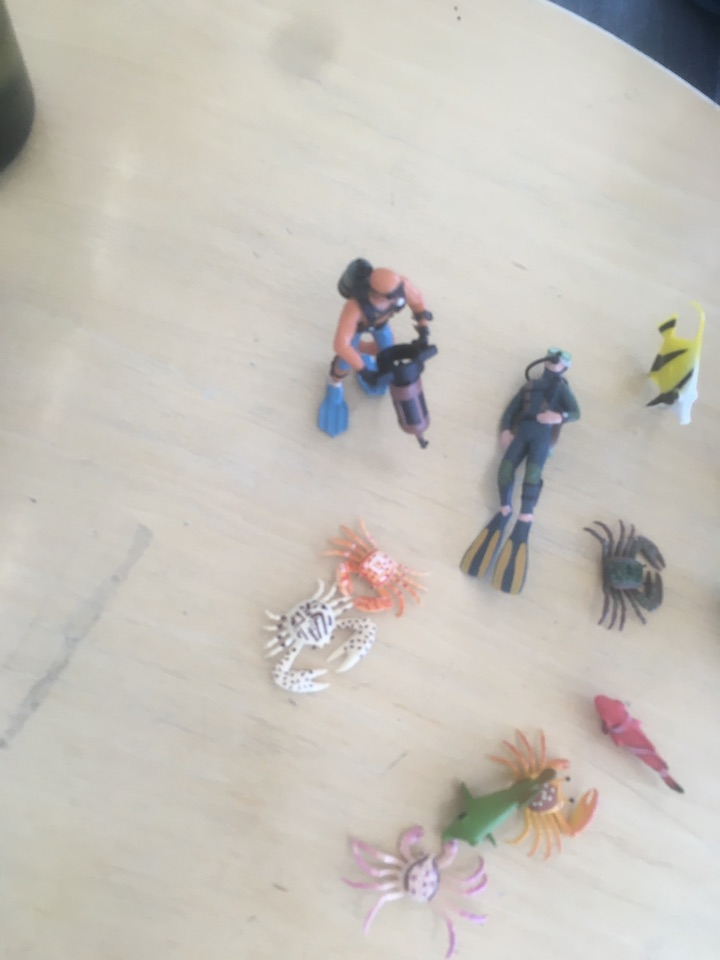crab: (339, 820, 498, 960), (474, 724, 600, 864), (259, 579, 379, 700), (316, 514, 427, 620), (581, 513, 668, 633)
danger: (643, 299, 711, 429)
diver: (455, 344, 584, 600), (311, 258, 440, 456)
fish: (439, 759, 562, 856), (589, 684, 689, 799)
